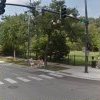crosswalk: (0, 72, 63, 85)
